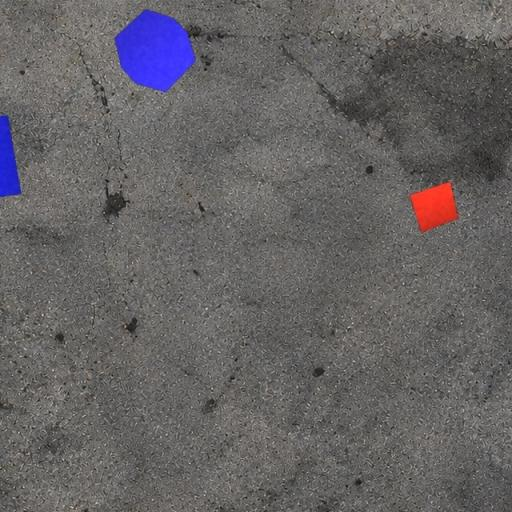RED_SQUARE: (409, 181, 459, 233)
